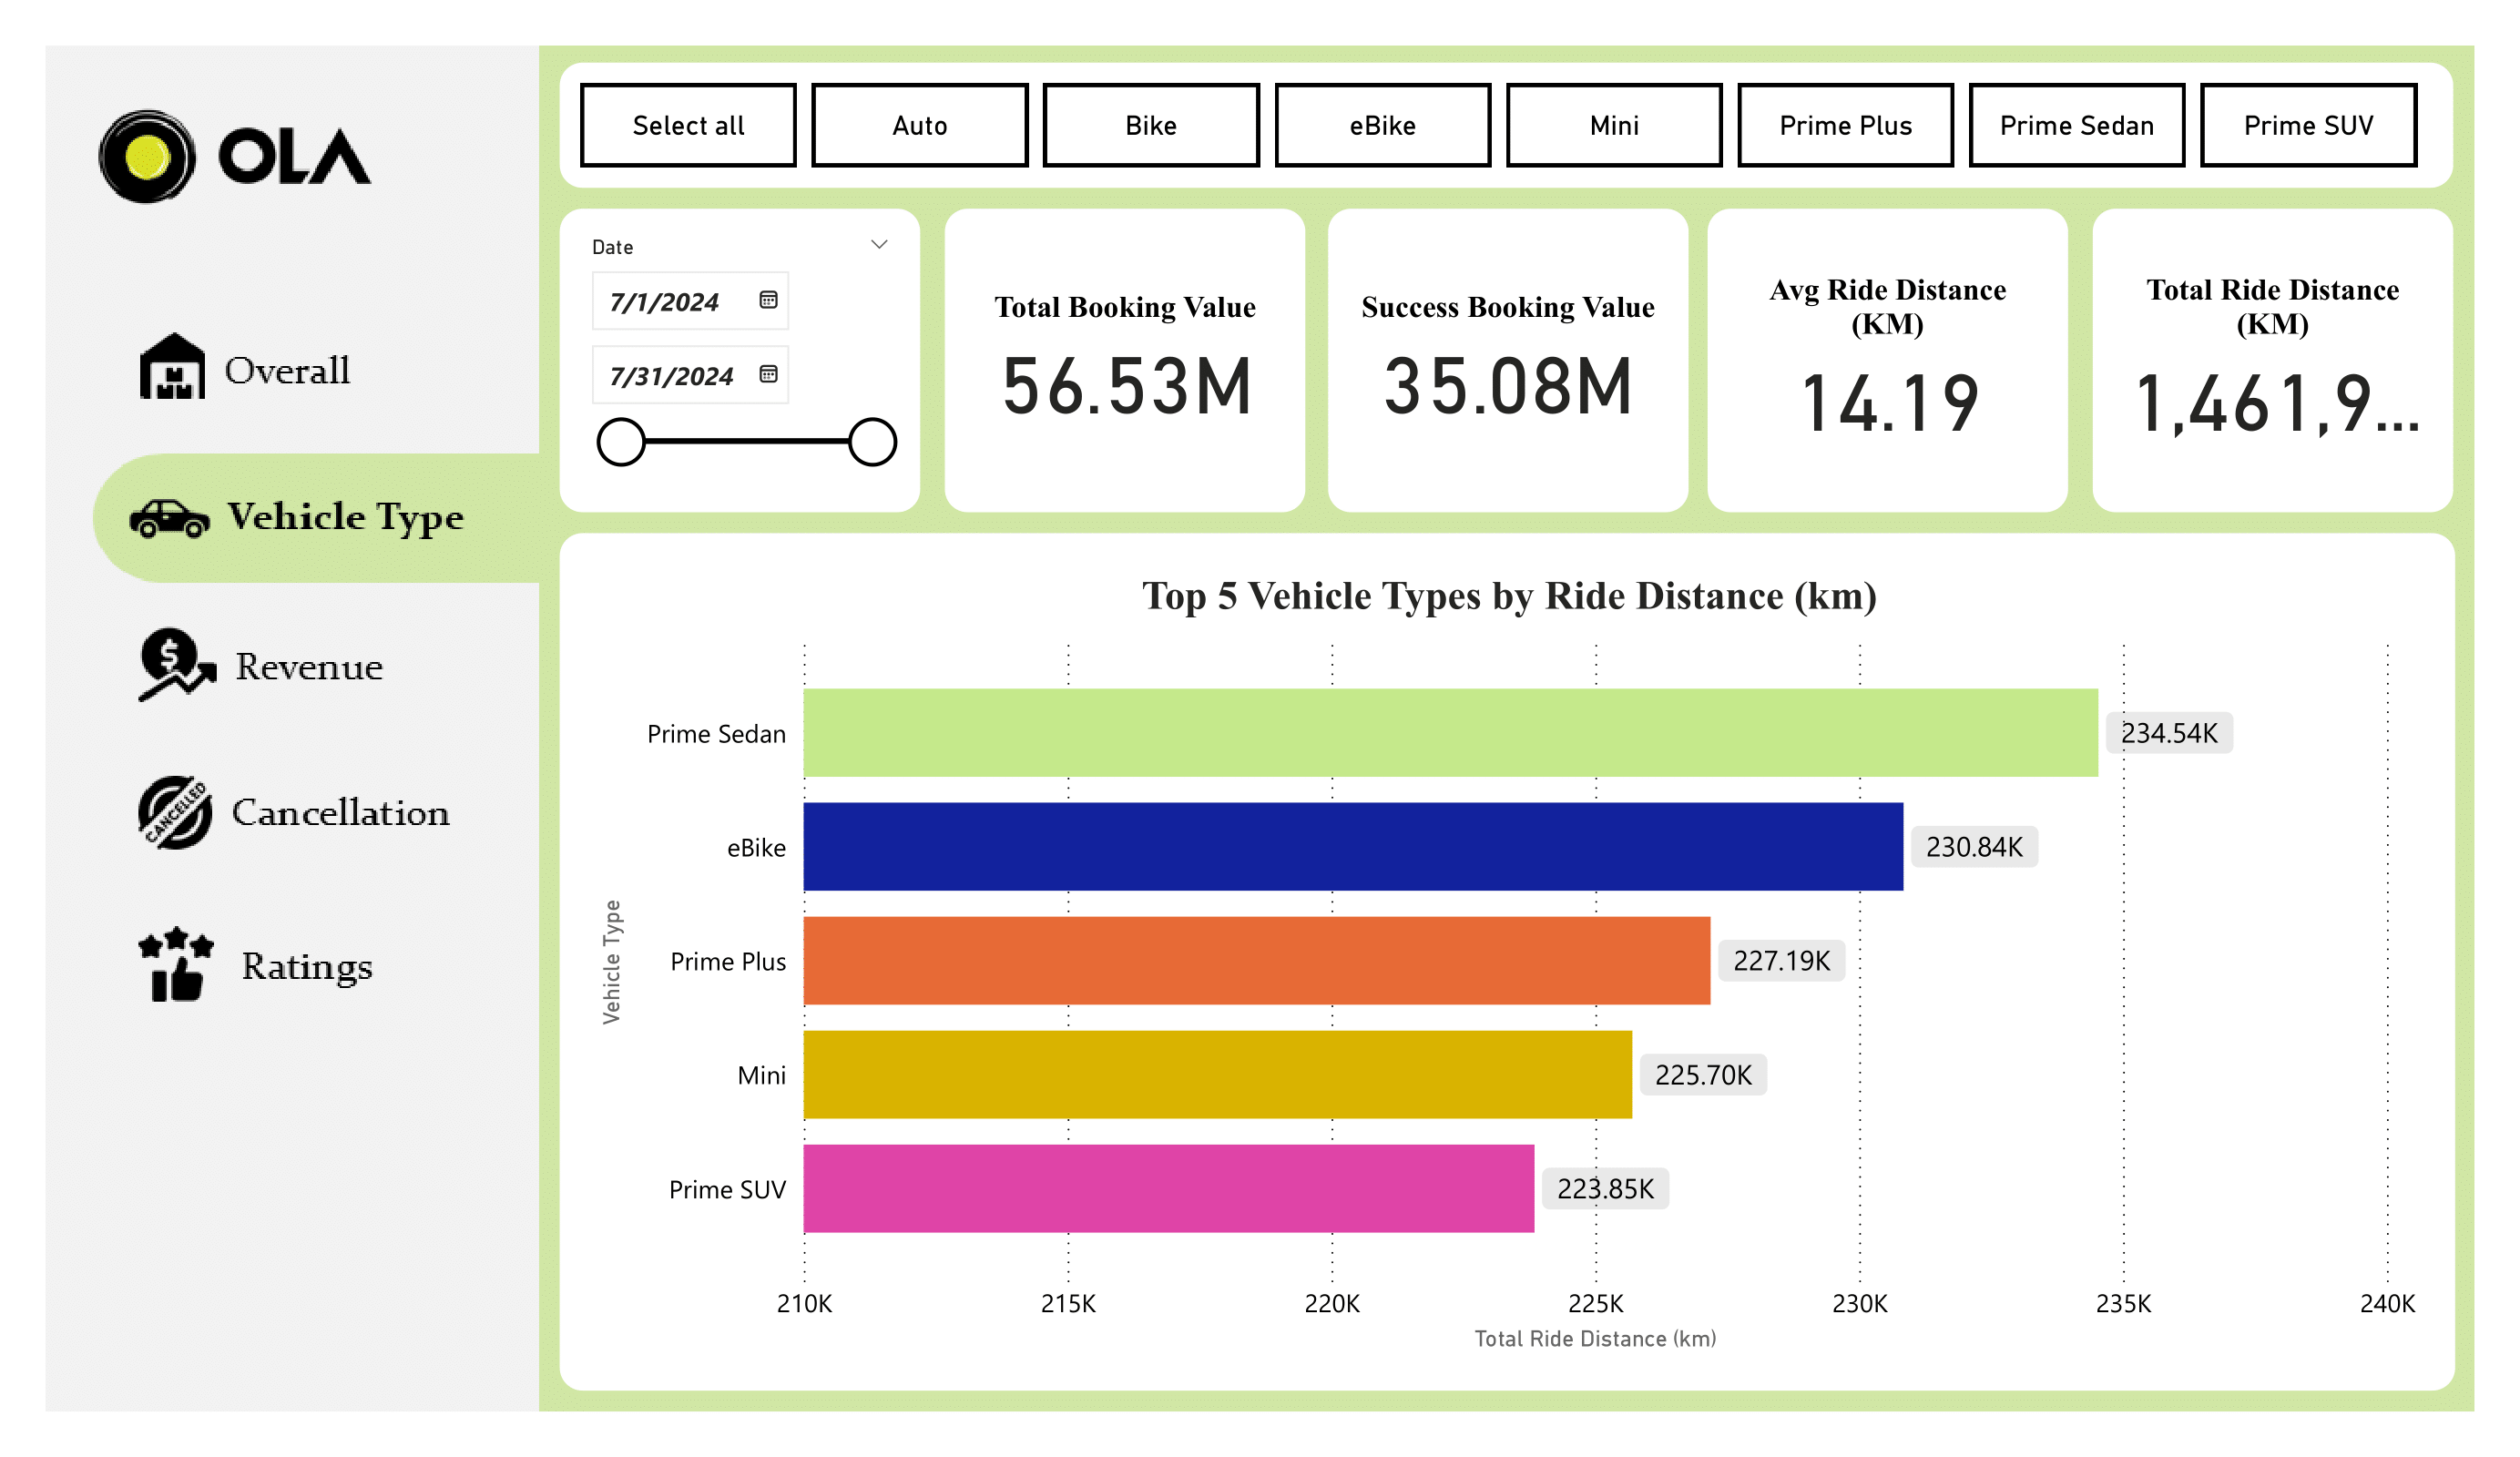

What the dashboard file says about the page in this screenshot:
{"tool":"powerbi","page":{"name":"Vehicle Type","canvas":[1280,720],"ordinal":1},"visuals":[{"type":"cardVisual","fields":{"Data":["Bookings-100000-Rows.Success Booking Value"]},"box":[676.2,86.2,190,160],"z":1000},{"type":"cardVisual","title":"Avg Distance Travelled","fields":{"Data":["Avg(Bookings-100000-Rows.Ride_Distance)"]},"box":[876.2,86.2,190,160],"z":2000},{"type":"cardVisual","title":"Total Distance Travelled","fields":{"Data":["Sum(Bookings-100000-Rows.Ride_Distance)"]},"box":[1078.8,86,190,160],"z":3000},{"type":"cardVisual","title":"Total Booking Value","fields":{"Data":["Sum(Bookings-100000-Rows.Booking_Value)"]},"box":[473.8,86.2,190,160],"z":4000},{"type":"clusteredBarChart","title":"Top 5 Vehicle Types by Ride Distance (km)","fields":{"Category":["Bookings-100000-Rows.Vehicle_Type"],"Y":["Bookings-100000-Rows.Total Distance Travelled (km)"]},"box":[271.2,257,999.3,452],"z":5000},{"type":"actionButton","box":[23.8,132.5,237.5,72.5],"z":6000},{"type":"actionButton","box":[22.5,290,237.5,72.5],"z":7000},{"type":"actionButton","box":[23.8,370,237.5,72.5],"z":8000},{"type":"actionButton","box":[23.8,448.8,237.5,72.5],"z":9000},{"type":"slicer","title":"Date","fields":{"Values":["Bookings-100000-Rows.Date"]},"box":[271.2,86,190,160],"z":10000},{"type":"advancedSlicerVisual","fields":{"Values":["Bookings-100000-Rows.Vehicle_Type"]},"box":[271.4,9.1,997.4,66.2],"z":10001}]}

Visuals, with their boxes on the page's 1280x720 design canvas (x1, y1, x2, y2). These are canvas units, not pixel positions in the 2520x1457 screenshot, which may show the page scaled, cropped or inside an application window:
cardVisual - Bookings-100000-Rows.Success Booking Value: [676, 86, 866, 246]
"Avg Distance Travelled" cardVisual: [876, 86, 1066, 246]
"Total Distance Travelled" cardVisual: [1079, 86, 1269, 246]
"Total Booking Value" cardVisual: [474, 86, 664, 246]
"Top 5 Vehicle Types by Ride Distance (km)" clusteredBarChart: [271, 257, 1270, 709]
actionButton: [24, 132, 261, 205]
actionButton: [22, 290, 260, 362]
actionButton: [24, 370, 261, 442]
actionButton: [24, 449, 261, 521]
"Date" slicer: [271, 86, 461, 246]
advancedSlicerVisual - Bookings-100000-Rows.Vehicle_Type: [271, 9, 1269, 75]
